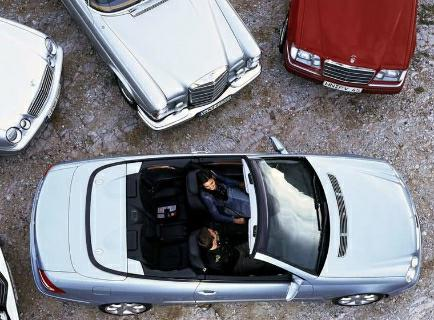奔驰-CLK级: (24, 137, 424, 315)
